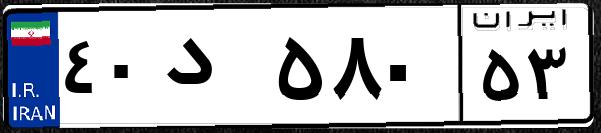0: (385, 28, 445, 110), (110, 28, 158, 98)
3: (525, 38, 570, 115)
4: (57, 26, 110, 100)
5: (270, 28, 330, 110), (475, 38, 525, 113)
8: (330, 28, 385, 110)
د: (158, 20, 270, 120)
